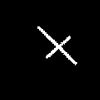single_crochet: (38, 27, 76, 64)
